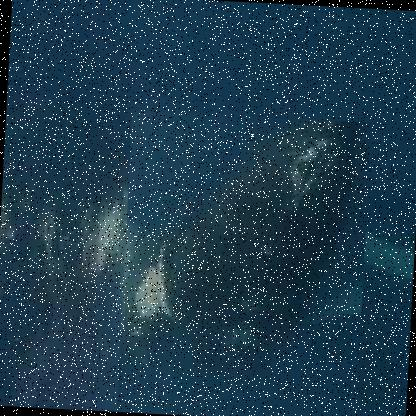blue_whale: (116, 110, 372, 415)
